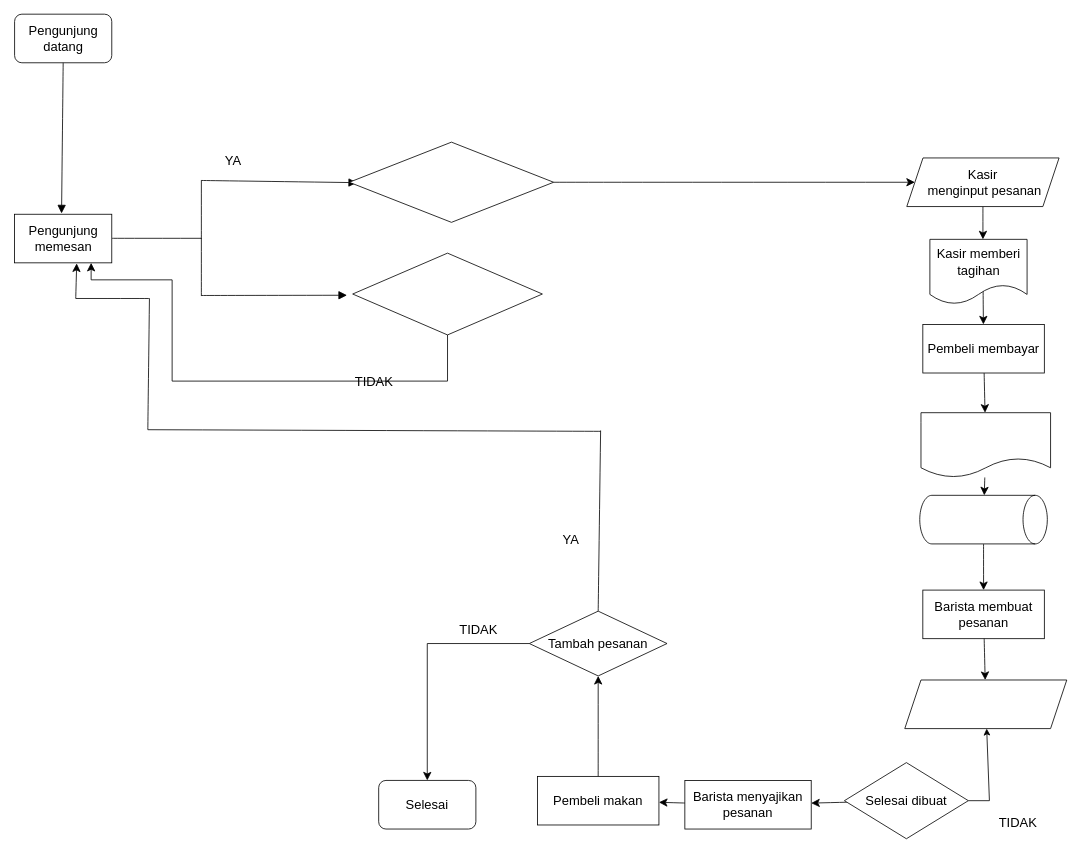
Image size: 1081x853. Some labels were removed from this diagram. The centre of each missing label's shape, as x and y in pixels:
Pembeli mendapatkan struk pembayaran: the point at 985,444
Record data pemesanan: the point at 983,519
Status pesanan: the point at 985,704
Stok tersedia: the point at 451,181
Stok tidak tersedia: the point at 447,293
